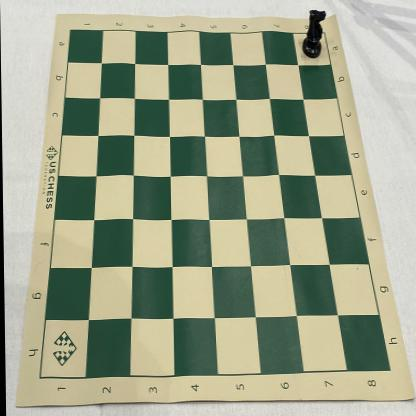black-knight: (301, 9, 327, 60)
